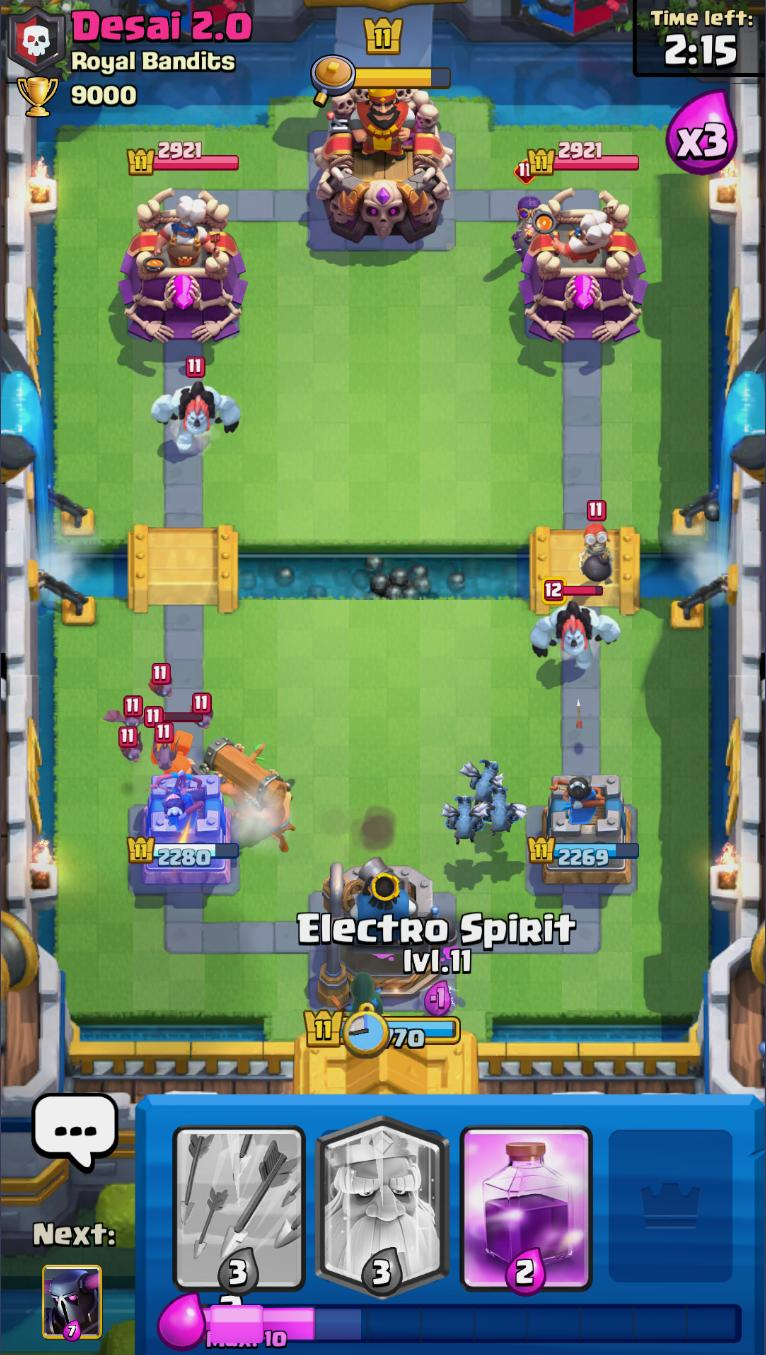ArrowDeck: (167, 1097, 313, 1290)
Bat: (147, 722, 183, 770), (104, 694, 150, 730), (186, 692, 218, 730), (147, 662, 177, 700), (116, 723, 146, 761)
Berserker: (145, 705, 203, 779)
Bomber: (579, 500, 617, 587)
Chef: (147, 199, 220, 270), (540, 204, 614, 269)
Elixir: (202, 1296, 742, 1349)
Empty: (599, 1100, 744, 1297)
EnemyTower: (119, 189, 249, 344), (520, 189, 649, 343)
EvoBomber: (507, 160, 544, 264)
IceGolem: (150, 358, 241, 455), (533, 580, 622, 668)
KingTower: (314, 84, 456, 244)
MyBandit: (341, 970, 387, 1024)
MyBattleRam: (204, 737, 299, 854)
MyKingHP: (301, 1004, 463, 1053)
MyKingTower: (311, 853, 461, 1009)
MyMinion: (476, 786, 526, 840), (443, 793, 483, 850), (461, 754, 504, 801)
MyPrincessTower: (127, 774, 240, 889), (529, 774, 641, 890)
MyPrincessTowerHP: (126, 833, 241, 869), (529, 833, 641, 867)
PekkaNext: (41, 1261, 104, 1343)
RageDeck: (453, 1100, 599, 1300)
RoyaleGhostDeck: (310, 1100, 456, 1296)
TowerPrincessHP: (529, 141, 641, 177), (129, 141, 241, 174)
